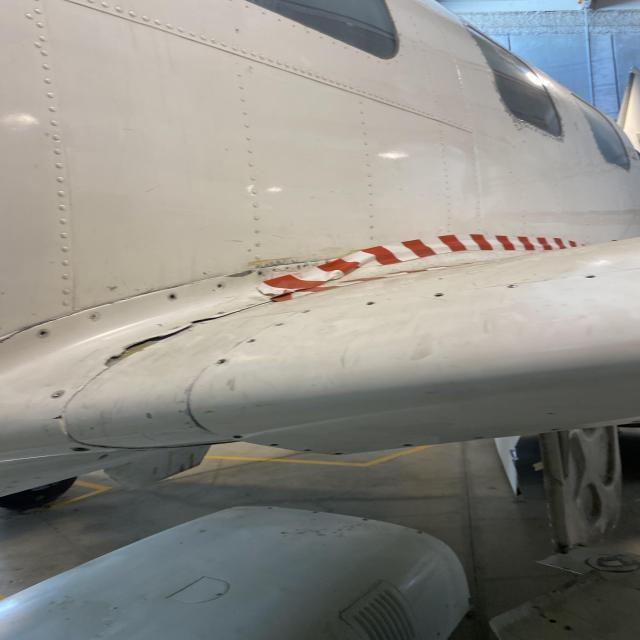Fastener Damage: (68, 445, 90, 453), (36, 330, 52, 338), (165, 292, 180, 300), (96, 452, 111, 460), (214, 358, 229, 366), (214, 282, 228, 290), (402, 442, 415, 450), (331, 450, 343, 458), (245, 338, 258, 344), (231, 434, 247, 438), (302, 448, 314, 453), (268, 442, 282, 446)
Rupture: (102, 333, 174, 370), (0, 313, 58, 343), (40, 412, 70, 426), (188, 316, 220, 328)
